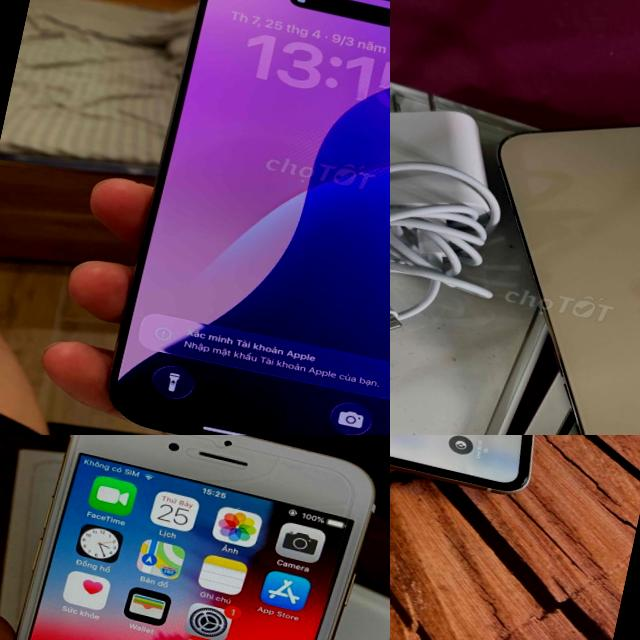screen_defect: (196, 435, 328, 516)
